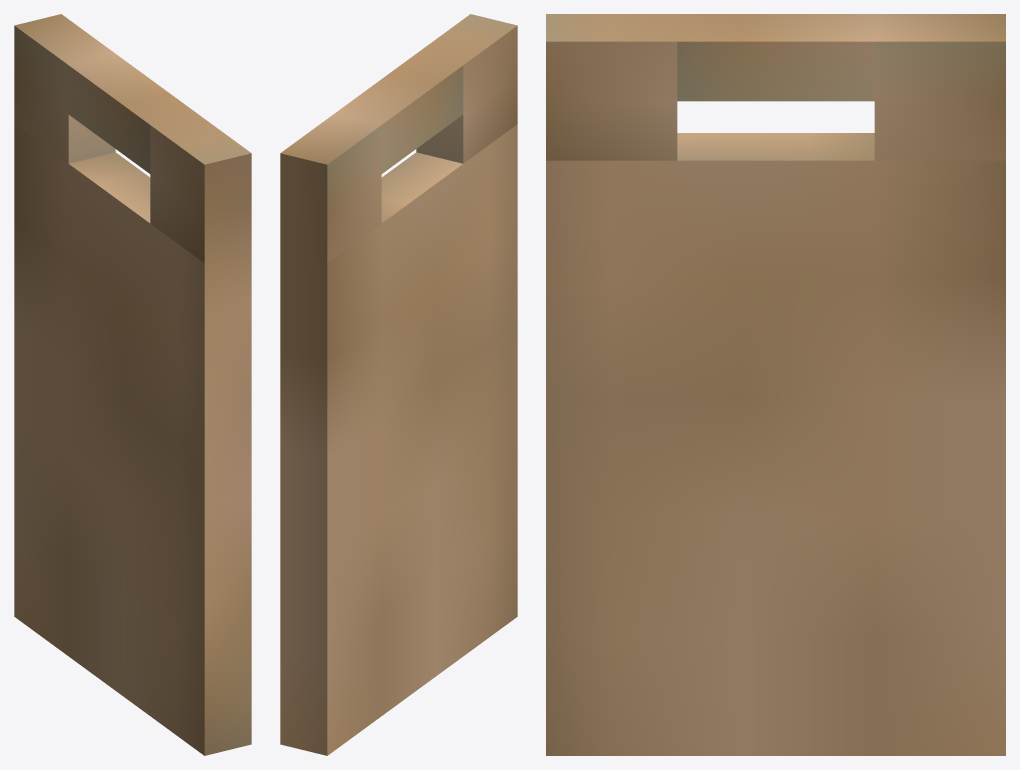
Rendered from ChoppingBoard_00.fbx.
3 renders of one model, left to right at view 1: azimuth 30°, elevation 25°; view 2: azimuth 150°, elevation 25°; view 3: azimuth 270°, elevation 25°, orthographic. The views are drawn at different scales.
Parts seen in each view (by area): view 1: ChoppingBoard_00; view 2: ChoppingBoard_00; view 3: ChoppingBoard_00.
Boxes of the visible parts, x1,y1,x2,y2 form: ChoppingBoard_00: (14, 14, 251, 755); ChoppingBoard_00: (280, 14, 517, 755); ChoppingBoard_00: (546, 14, 1005, 755).
Bounding box in the file's own units: 5 × 35 × 60.
Materials: 1 (1 with a texture image).
